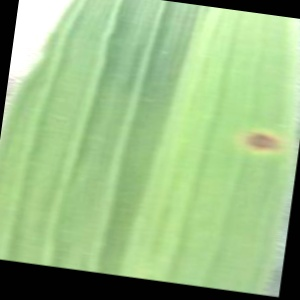Bacterial_Leaf_Blight: (232, 118, 292, 166)
